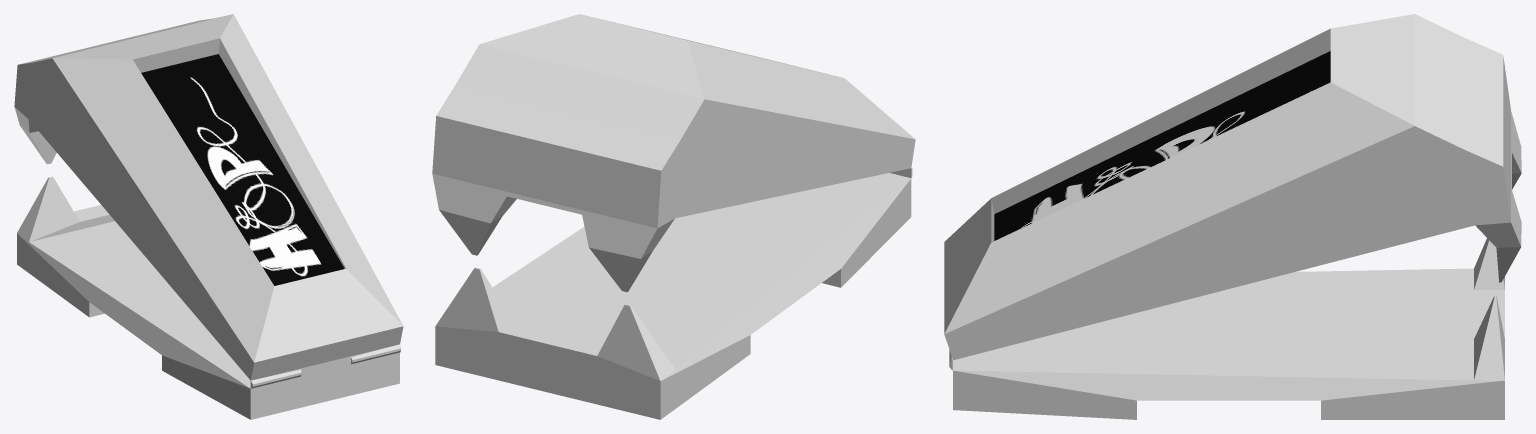
The model's file is StapleRemover.fbx.
3 renders of one model, left to right at view 1: azimuth 30°, elevation 25°; view 2: azimuth 150°, elevation 25°; view 3: azimuth 270°, elevation 25°, orthographic. The views are drawn at different scales.
Visible parts, largest first — view 1: StapleRemover; view 2: StapleRemover; view 3: StapleRemover.
Part boxes in pixels (box(x1,y1,x2,y2)): StapleRemover: box(14, 14, 403, 419); StapleRemover: box(432, 14, 915, 419); StapleRemover: box(944, 14, 1521, 419).
Bounding box in the file's own units: 24.82 × 31.88 × 54.08.
